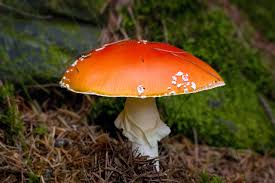Amanita muscaria: (50, 32, 226, 162)
